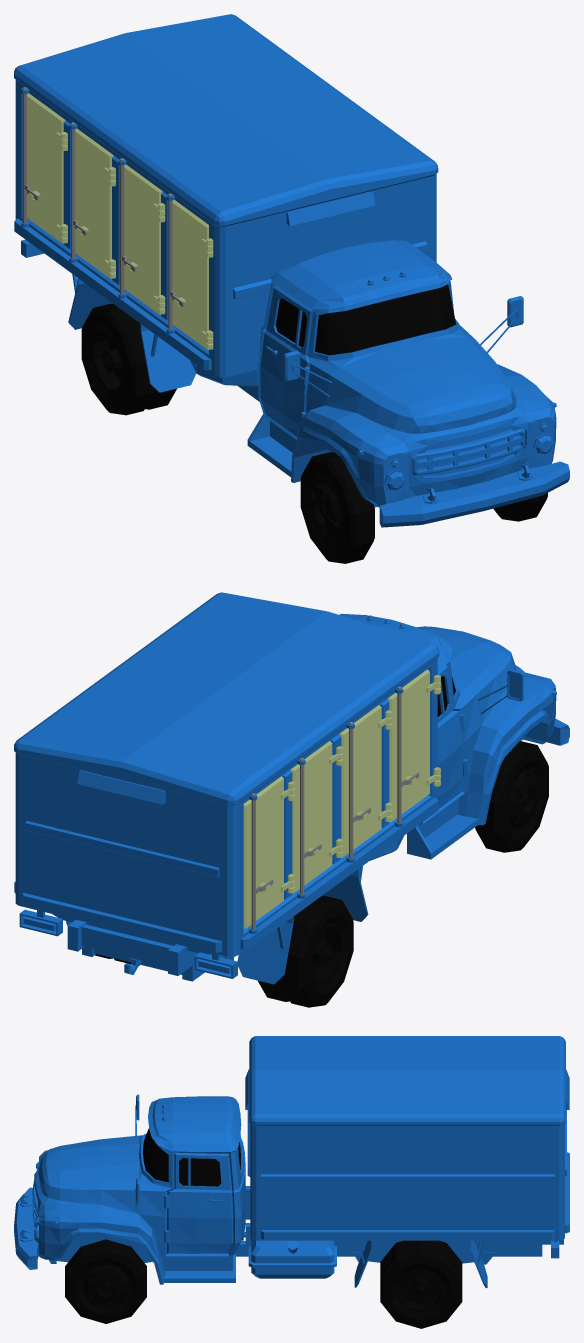
The model's file is SM_thermos_truck.fbx.
3 renders of one model, top to bottom at view 1: azimuth 30°, elevation 25°; view 2: azimuth 150°, elevation 25°; view 3: azimuth 270°, elevation 25°, orthographic. The views are drawn at different scales.
Visible parts, largest first — view 1: cafsdf_4, Cylinder_3, Cylinder_2, Cube_2, Cube_4, Cube_3, Cube, Cylinder; view 2: cafsdf_4, Cylinder_3, Cube_2, Cube_3, Cube_4, Cube, Cylinder_2; view 3: cafsdf_4, Cylinder_3, Cylinder.
Boxes of the visible parts, <box> form: cafsdf_4: <box>14,14,569,527</box>; Cylinder_3: <box>81,303,176,415</box>; Cylinder_2: <box>300,452,374,563</box>; Cube_2: <box>22,87,67,243</box>; Cube_4: <box>168,193,213,349</box>; Cube_3: <box>120,158,165,314</box>; Cube: <box>71,122,115,278</box>; Cylinder: <box>493,493,547,521</box>; cafsdf_4: <box>14,592,569,984</box>; Cylinder_3: <box>95,895,353,1007</box>; Cube_2: <box>243,776,294,930</box>; Cube_3: <box>339,705,392,858</box>; Cube_4: <box>387,669,440,823</box>; Cube: <box>290,741,343,894</box>; Cylinder_2: <box>475,741,548,852</box>; cafsdf_4: <box>14,1036,569,1288</box>; Cylinder_3: <box>380,1240,462,1328</box>; Cylinder: <box>65,1239,146,1323</box>.
Bounding box in the file's own units: 274 × 314 × 725.
